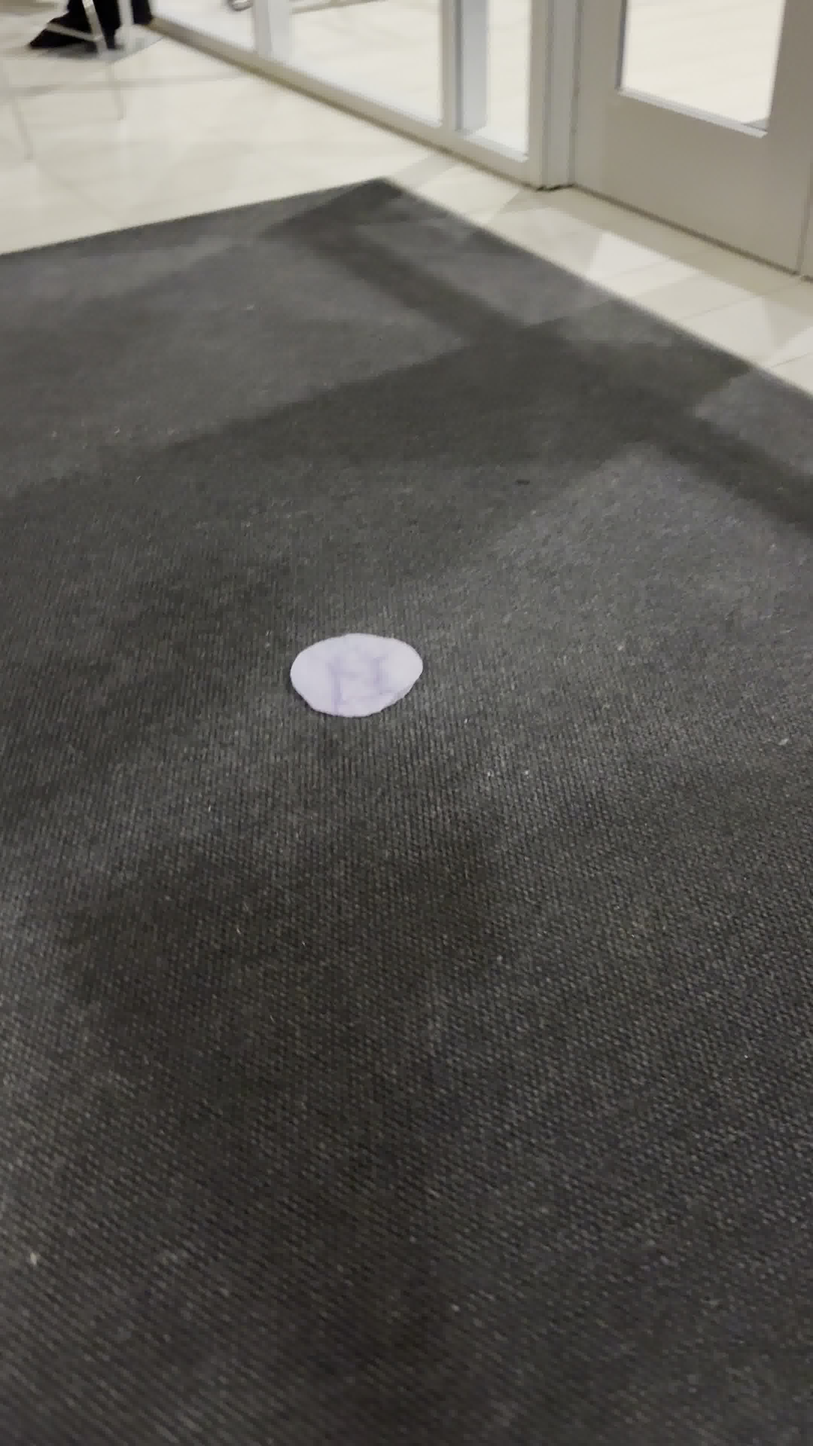Target: (290, 633, 423, 718)
